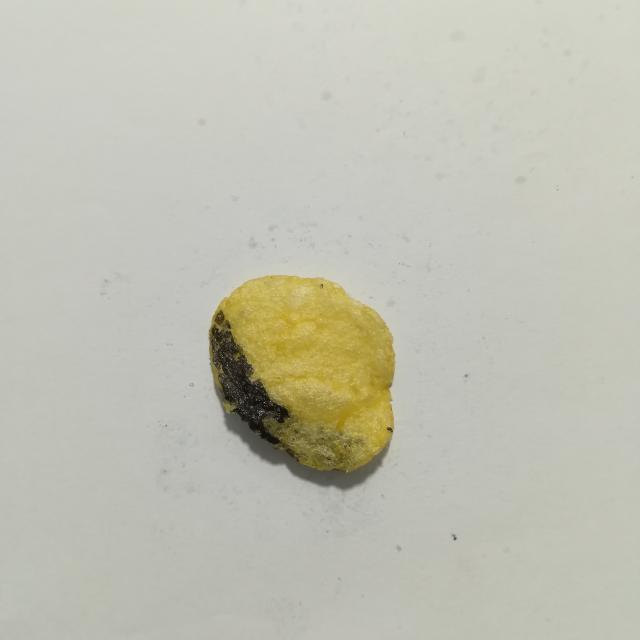chip: (209, 275, 395, 471)
damaged: (211, 310, 289, 444), (387, 426, 394, 433)
semi-damaged: (263, 413, 365, 472)
